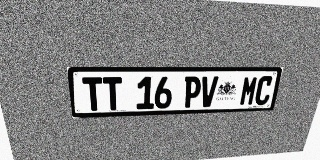1: (137, 77, 155, 109)
6: (154, 77, 173, 109)
C: (254, 76, 274, 105)
M: (239, 76, 259, 106)
P: (183, 76, 202, 108)
T: (82, 77, 104, 111), (102, 77, 122, 110)
V: (199, 76, 219, 107)
